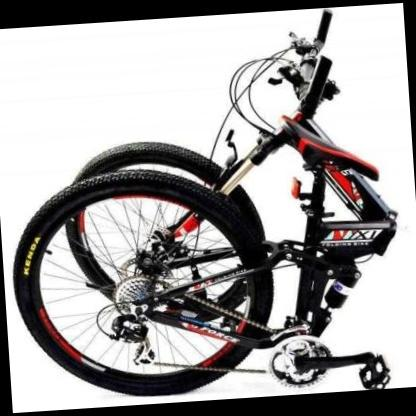Bicycle: (7, 27, 409, 359)
